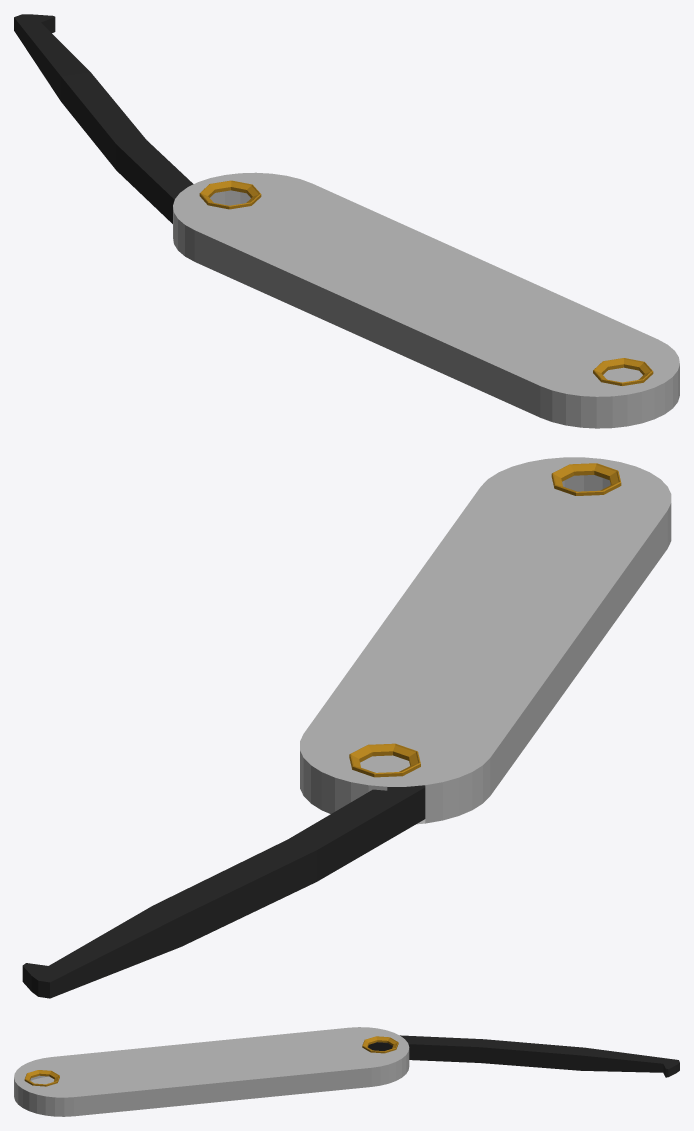
The model's file is lockpick.fbx.
3 views of the same model, one above another, from view 1: azimuth 30°, elevation 25°; view 2: azimuth 150°, elevation 25°; view 3: azimuth 270°, elevation 25° (orthographic). The views are drawn at different scales.
Parts seen in each view (by area): view 1: Lockpick; view 2: Lockpick; view 3: Lockpick.
Boxes of the visible parts, x1=… form: Lockpick: x1=14, y1=14, x2=679, y2=428; Lockpick: x1=22, y1=457, x2=671, y2=998; Lockpick: x1=14, y1=1027, x2=679, y2=1116.
Size of the model in its own units: 17.48 by 2.44 by 69.7.
